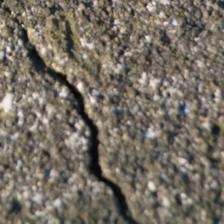Crack: (9, 13, 124, 205)
